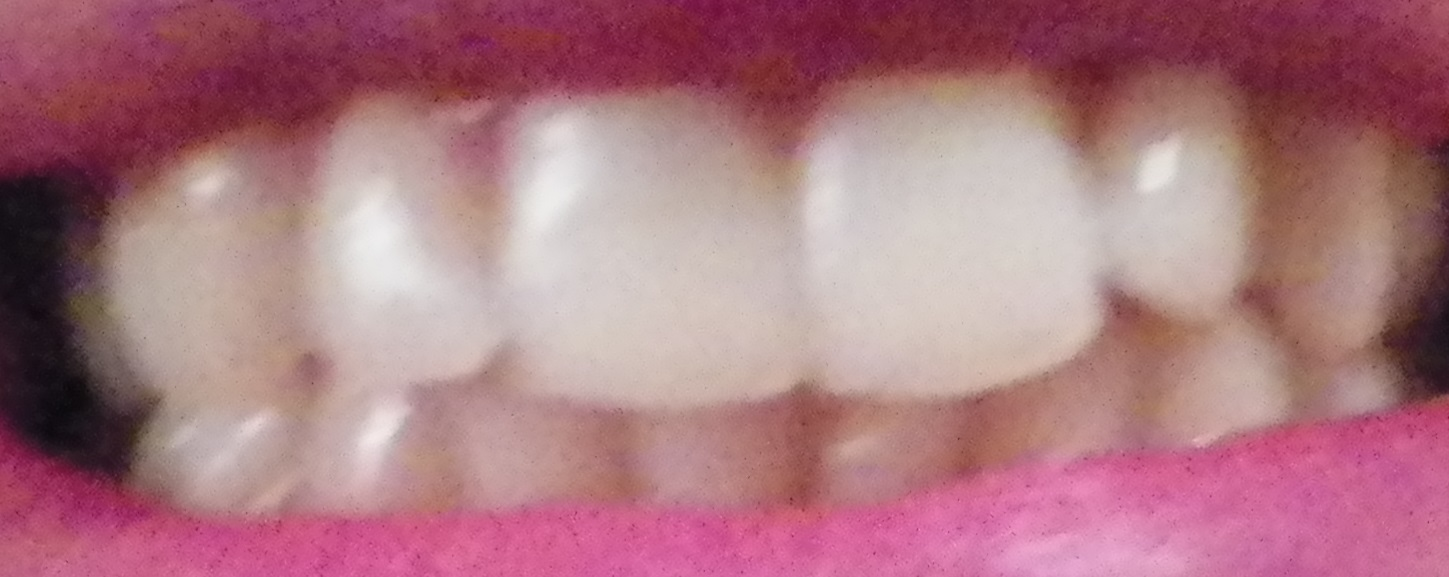boca: (46, 69, 1449, 509)
